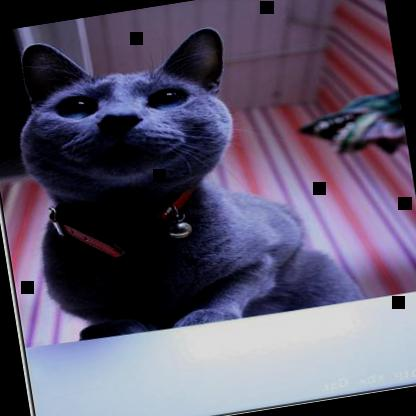cat: (3, 0, 367, 350)
